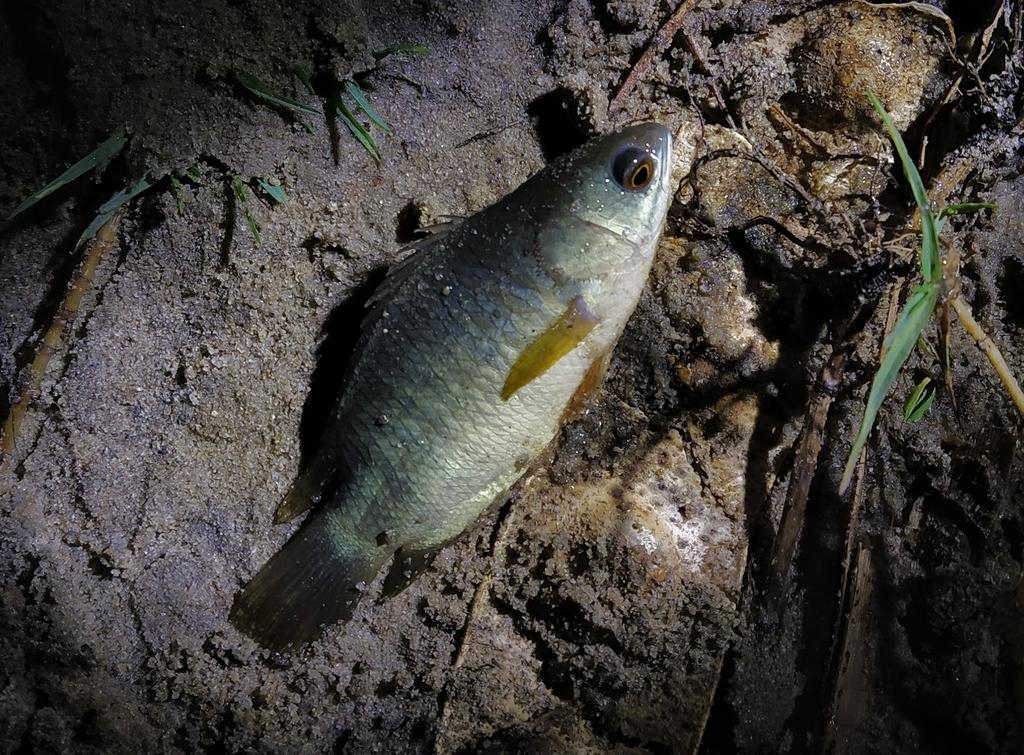Climbing Perch: (239, 118, 672, 654)
